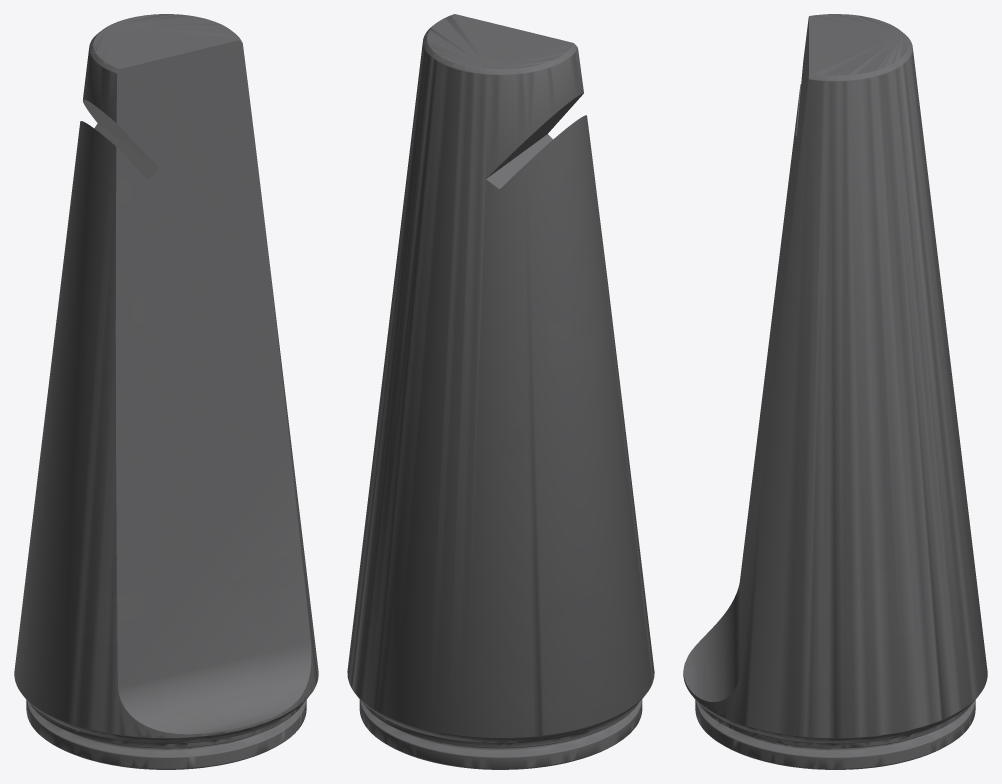
The model's file is bishop-black.glb.
3 renders of one model, left to right at view 1: azimuth 30°, elevation 25°; view 2: azimuth 150°, elevation 25°; view 3: azimuth 270°, elevation 25°, orthographic.
Visible parts, largest first — view 1: 03_strelec_cerna; view 2: 03_strelec_cerna; view 3: 03_strelec_cerna.
Part boxes in pixels (x1=…): 03_strelec_cerna: x1=14, y1=14, x2=318, y2=769; 03_strelec_cerna: x1=347, y1=14, x2=654, y2=769; 03_strelec_cerna: x1=683, y1=14, x2=987, y2=769.
Size of the model in its own units: 0.562 by 1.36 by 0.5622.
Materials: 1 (1 with a texture image).
